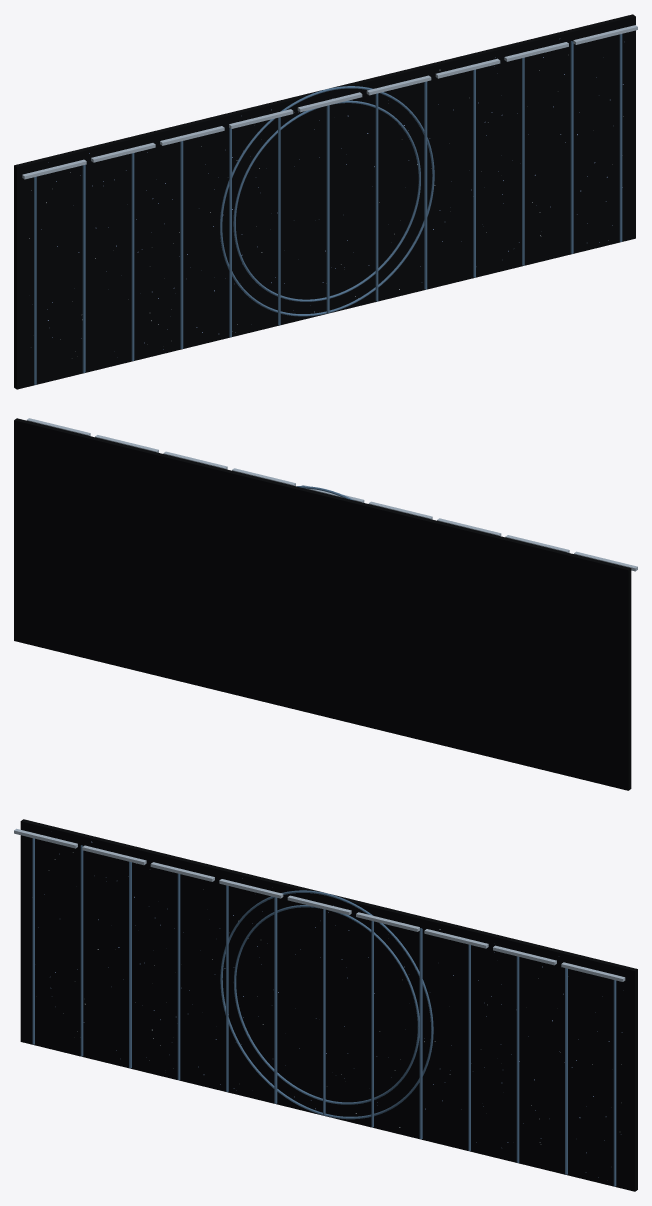
File: 01_L85_PanoramicEarthAndStarfieldViewport.fbx
The picture shows the model from 3 angles, top to bottom: view 1: azimuth 30°, elevation 25°; view 2: azimuth 150°, elevation 25°; view 3: azimuth 330°, elevation 25°; orthographic projection.
Visible parts, largest first — view 1: L85_PanoramicEarthAndStarfieldViewport; view 2: L85_PanoramicEarthAndStarfieldViewport; view 3: L85_PanoramicEarthAndStarfieldViewport.
Part boxes in pixels (bbox=[...]): L85_PanoramicEarthAndStarfieldViewport: bbox=[14, 14, 637, 389]; L85_PanoramicEarthAndStarfieldViewport: bbox=[14, 418, 637, 790]; L85_PanoramicEarthAndStarfieldViewport: bbox=[14, 819, 637, 1191].
Bounding box in the file's own units: 2740 × 955 × 77.5.
